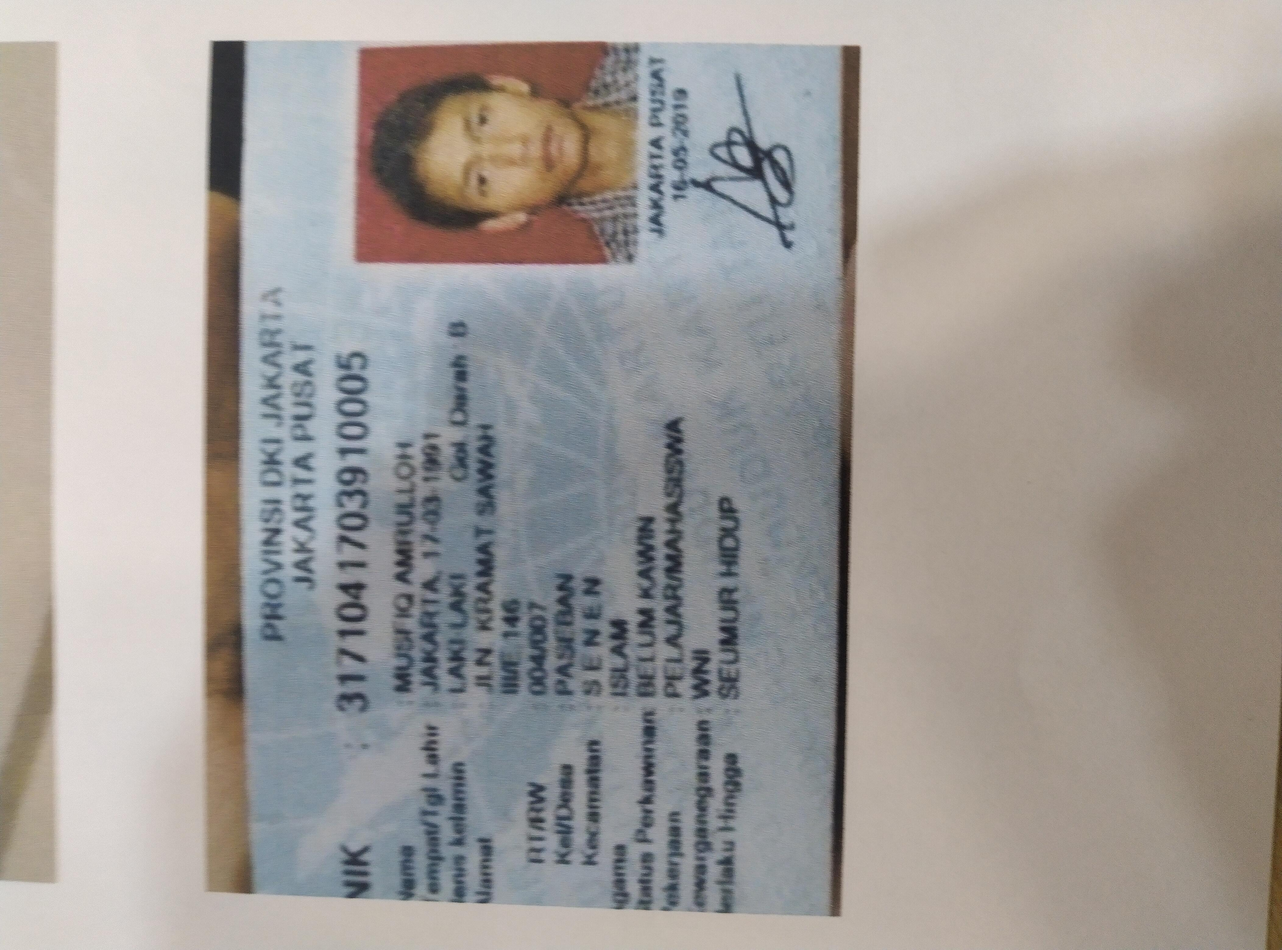ID-card: (45, 182, 1225, 622)
